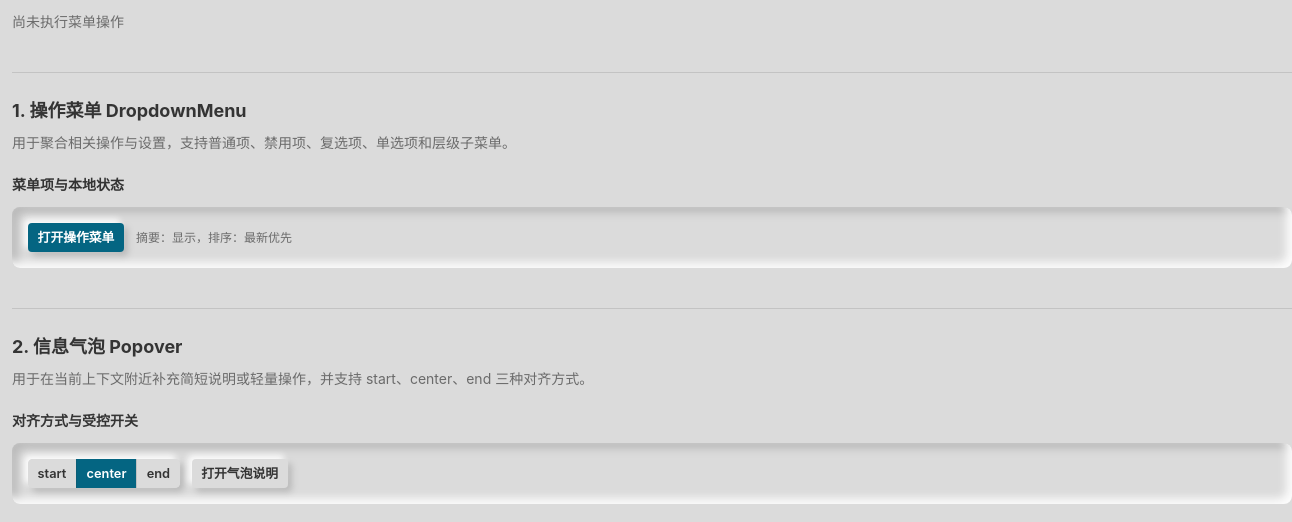
MenuDemo › keeps dropdown actions inside local showcase state
Click the button "打开操作菜单" at (76, 238), box left=28, top=223, right=124, bottom=252
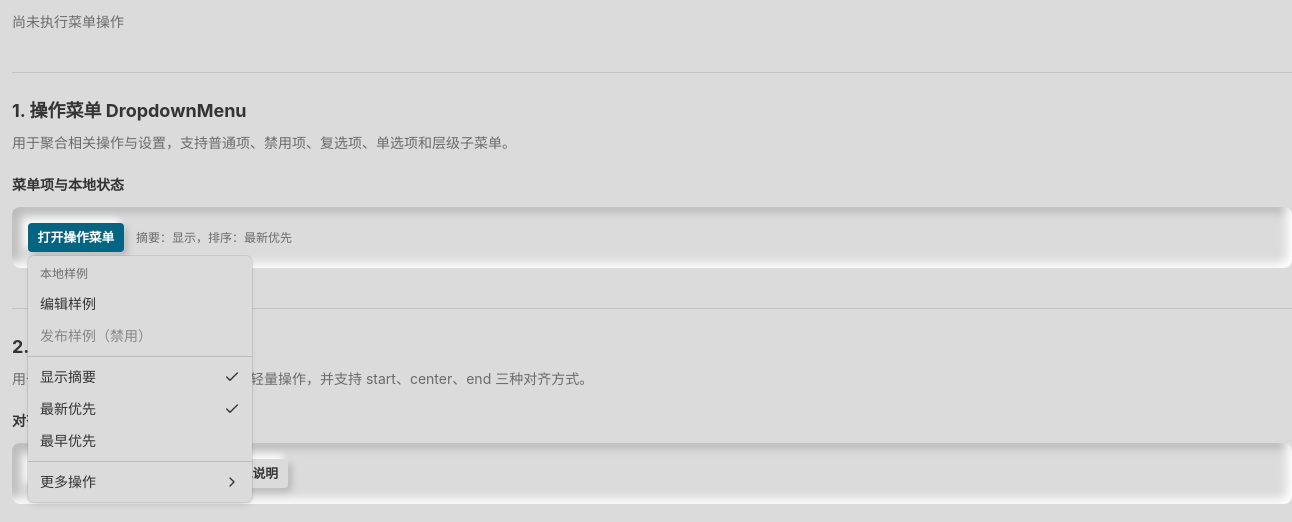
Click the menu item "编辑样例" at (68, 304), box left=40, top=295, right=96, bottom=312
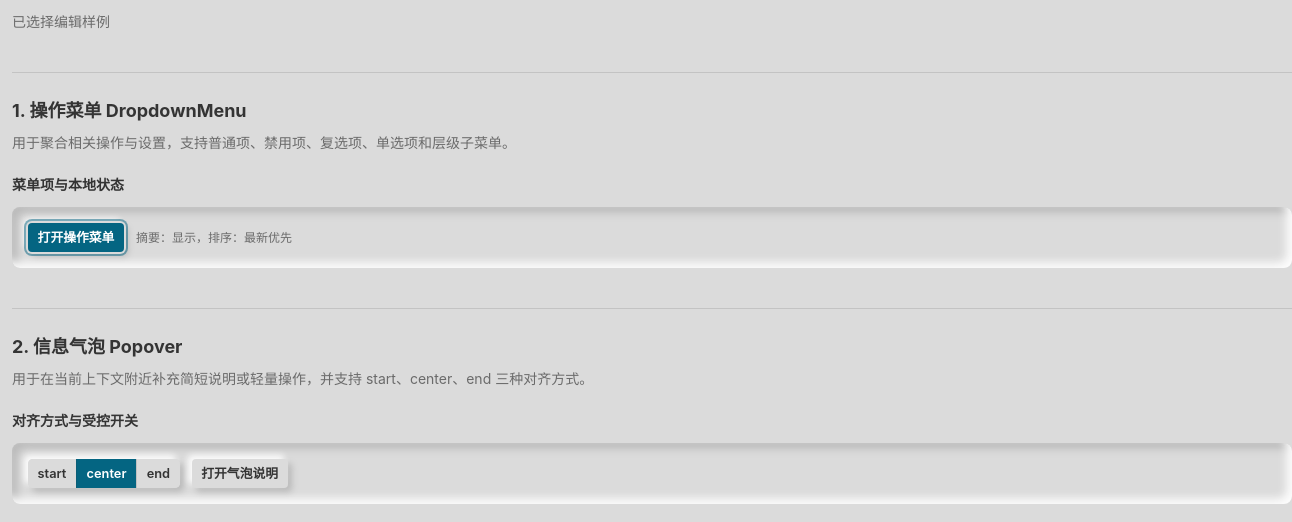
Now the text "已选择编辑样例" is shown, box left=12, top=13, right=110, bottom=30
Now the menu is gone
